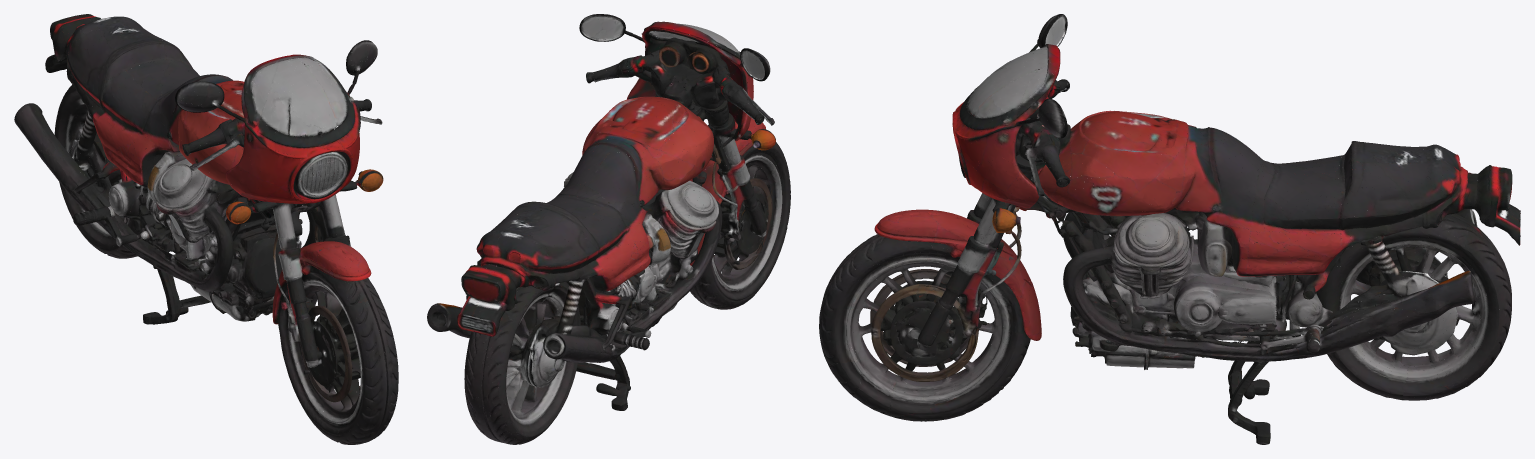
File: guzzi.glb
3 views of the same model, side by side, from view 1: azimuth 30°, elevation 25°; view 2: azimuth 150°, elevation 25°; view 3: azimuth 270°, elevation 25° (orthographic). The views are drawn at different scales.
Visible parts, largest first — view 1: Guzzi 850 Lemans; view 2: Guzzi 850 Lemans; view 3: Guzzi 850 Lemans.
Boxes of the visible parts, x1,y1,x2,y2 form: Guzzi 850 Lemans: (14,14,398,444); Guzzi 850 Lemans: (427,14,790,444); Guzzi 850 Lemans: (819,14,1520,444).
Bounding box in the file's own units: 5.73 × 9.21 × 16.
Materials: 1 (1 with a texture image).
